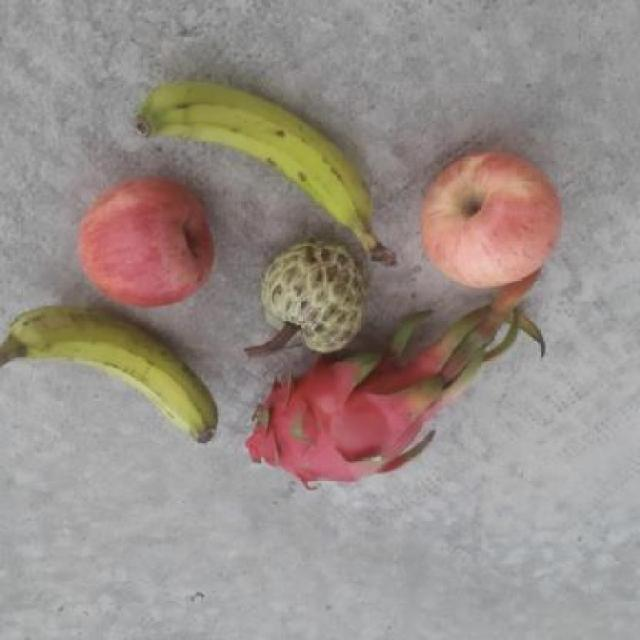apple: (415, 138, 563, 288), (76, 174, 219, 309)
banana: (128, 74, 400, 268), (0, 304, 220, 448)
dragon fruit: (245, 339, 440, 490)
sugar apple: (238, 233, 369, 359)
